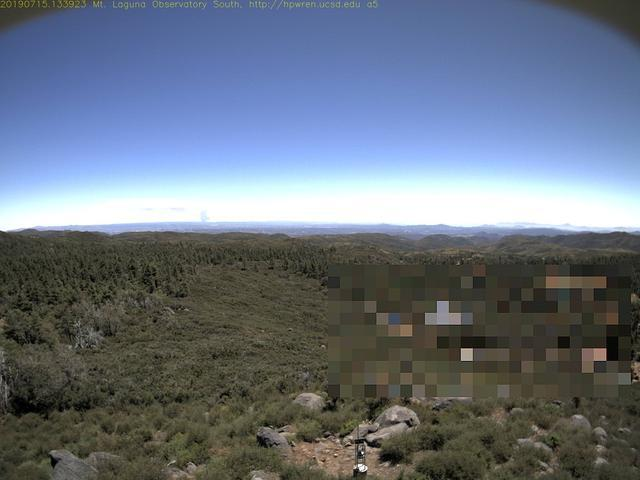smoke: (198, 211, 213, 227)
